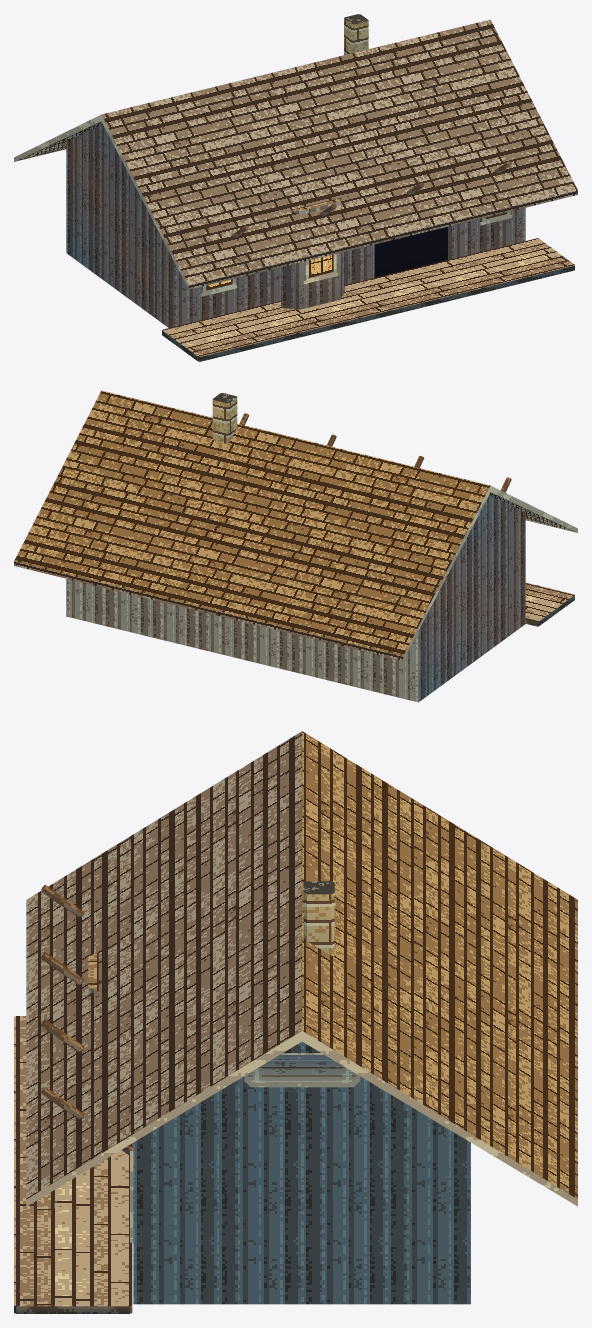
Rendered from wrail.station__entry.glb.
3 views of the same model, one above another, from view 1: azimuth 30°, elevation 25°; view 2: azimuth 150°, elevation 25°; view 3: azimuth 270°, elevation 25° (orthographic). The views are drawn at different scales.
Parts seen in each view (by area): view 1: kit_roof, kit_body, kit_deck, kit_card_panes, kit_bay, kit_chimney, kit_windows; view 2: kit_roof, kit_body, kit_deck, kit_chimney; view 3: kit_roof, kit_body, kit_deck, kit_card_panes, kit_chimney, kit_braces, kit_trim.
Boxes of the visible parts, x1,y1,x2,y2 form: kit_roof: [14, 19, 577, 289]; kit_body: [66, 125, 525, 327]; kit_deck: [162, 238, 574, 361]; kit_card_panes: [206, 212, 507, 290]; kit_bay: [281, 197, 344, 309]; kit_chimney: [344, 14, 368, 54]; kit_windows: [200, 211, 511, 296]; kit_roof: [14, 390, 577, 660]; kit_body: [66, 496, 525, 702]; kit_deck: [525, 582, 574, 626]; kit_chimney: [212, 393, 237, 443]; kit_roof: [26, 731, 577, 1206]; kit_body: [133, 1041, 470, 1304]; kit_deck: [14, 1016, 132, 1313]; kit_card_panes: [248, 1059, 355, 1083]; kit_chimney: [303, 881, 334, 956]; kit_braces: [41, 884, 133, 1155]; kit_trim: [244, 1053, 360, 1087].
Size of the model in its own units: 12.6 by 6.5 by 10.02.
Materials: 10 (10 with a texture image).
